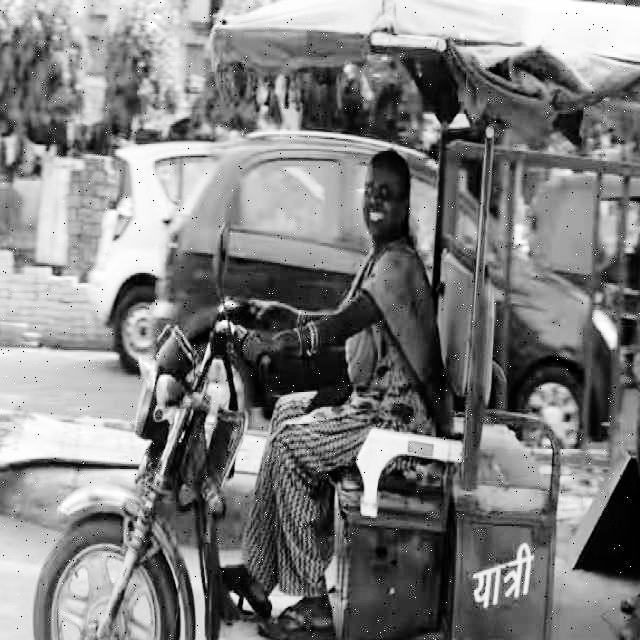Toto: (40, 3, 640, 639)
